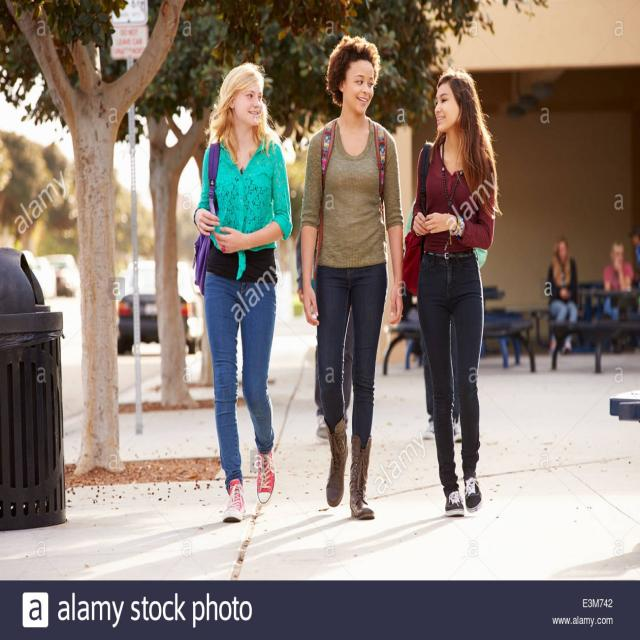body: (295, 32, 405, 526), (188, 63, 292, 527), (400, 66, 502, 522), (299, 122, 387, 448), (402, 188, 489, 445), (544, 236, 582, 358), (603, 239, 635, 293), (630, 228, 640, 278)
